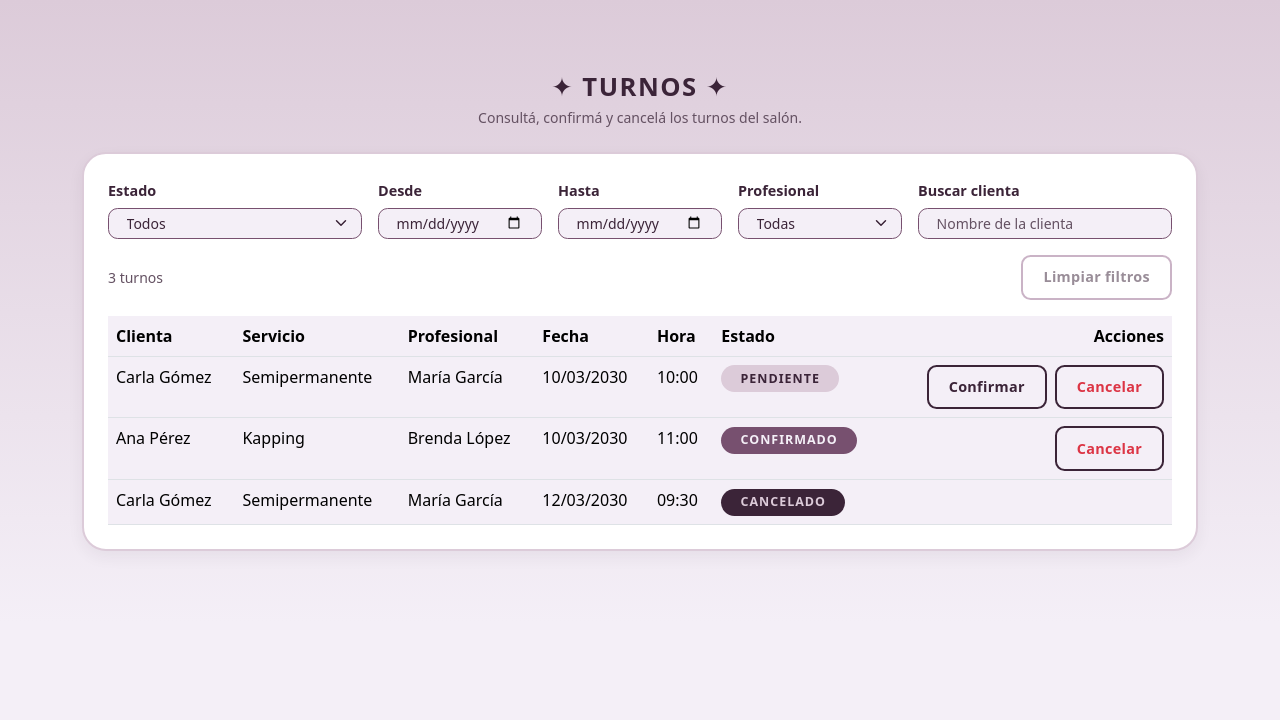
it: AdminTurnos — filtros combinables › filtra por estado
This screenshot has width=1280, height=720.
Select "Confirmado" in the dropdown labelled "Estado" at coordinates (235, 223), box [108, 208, 362, 239]
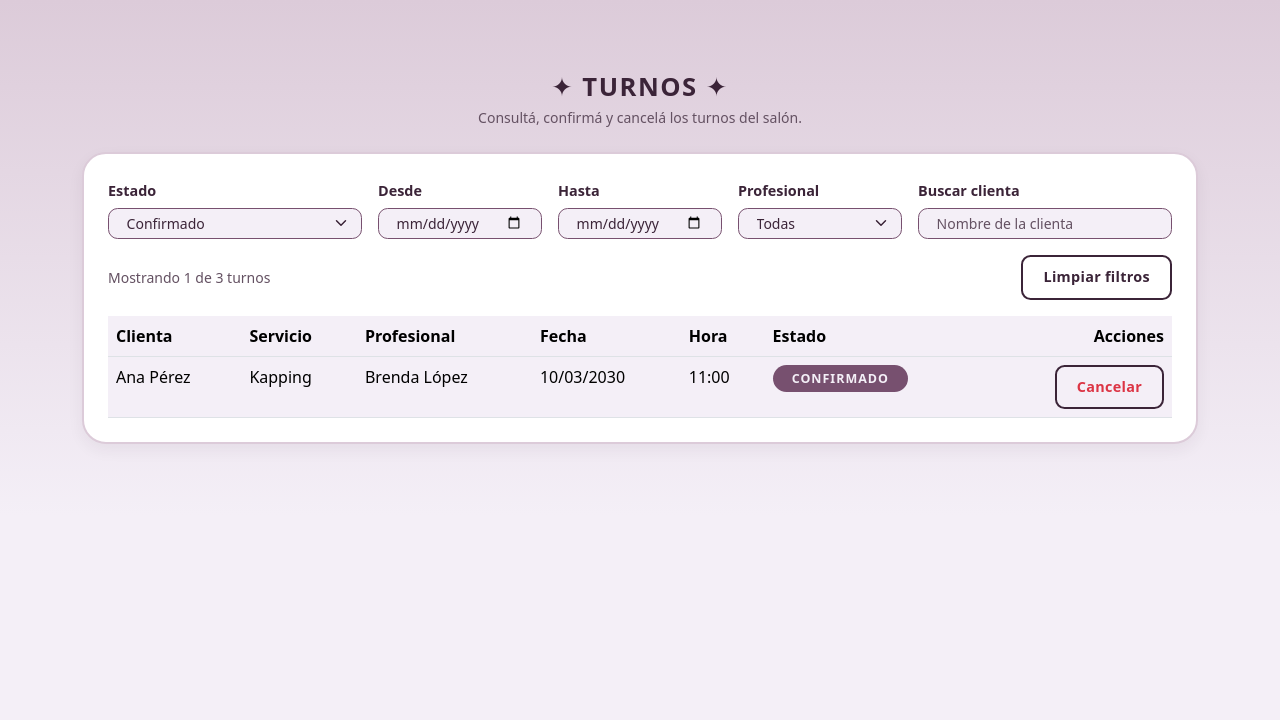
Expected: the text "Ana Pérez" is shown, [108, 356, 241, 418]
Expected: the text "Carla Gómez" is gone
Expected: the text "Mostrando 1 de 3 turnos" is shown, [108, 267, 270, 288]
